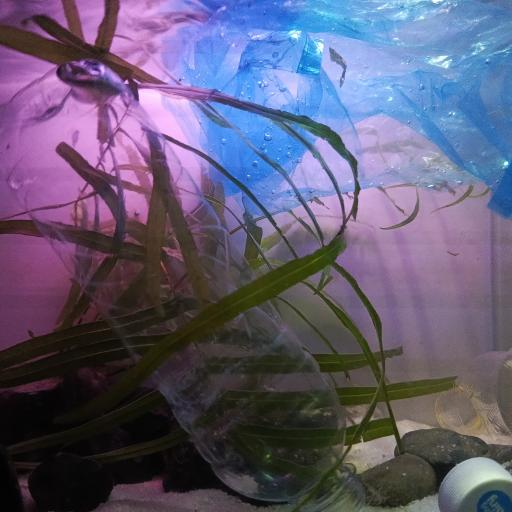bottle_cap: (438, 456, 512, 512)
plastic_bag: (160, 0, 512, 221)
plastic_bottle: (4, 64, 370, 506), (432, 352, 512, 438)
